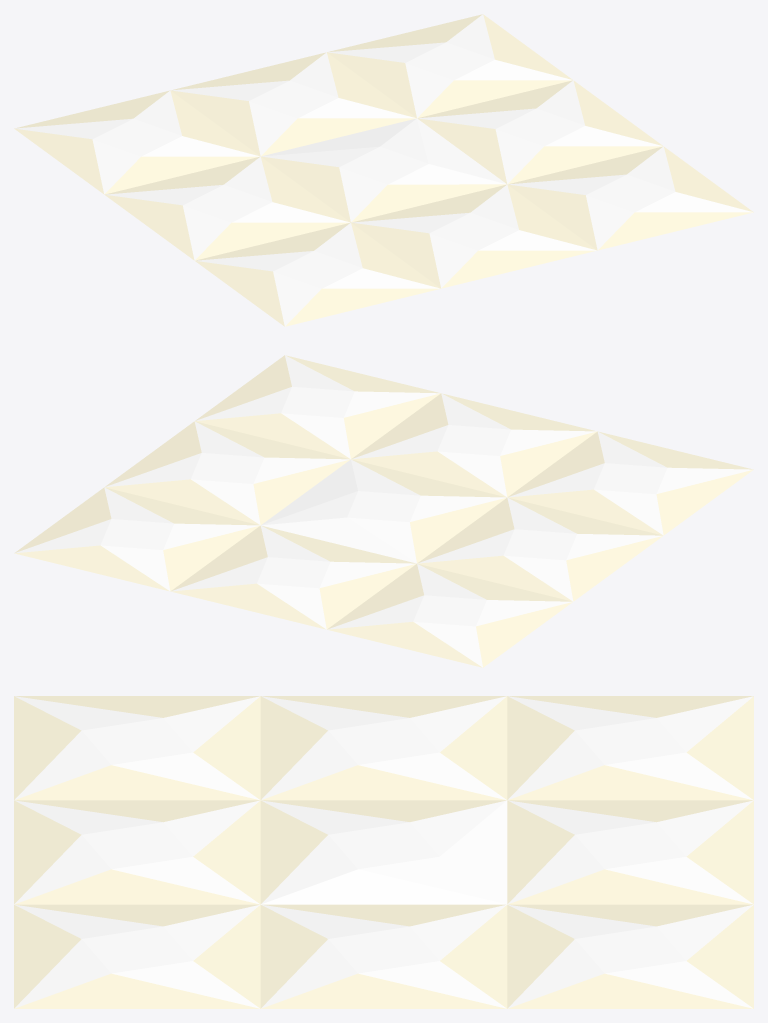
Rendered from SpaceTool_ShipFloorTileV1.glb.
3 views of the same model, one above another, from view 1: azimuth 30°, elevation 25°; view 2: azimuth 150°, elevation 25°; view 3: azimuth 270°, elevation 25° (orthographic). The views are drawn at different scales.
Parts seen in each view (by area): view 1: ShipFloorTileV1; view 2: ShipFloorTileV1; view 3: ShipFloorTileV1.
Part boxes in pixels (left/top/right/bottom): ShipFloorTileV1: left=14, top=14, right=753, bottom=326; ShipFloorTileV1: left=14, top=355, right=753, bottom=667; ShipFloorTileV1: left=14, top=696, right=753, bottom=1008.
Size of what is drawn, in the model's own units: 1 by 0.01 by 1.
1 material, 1 textured.
